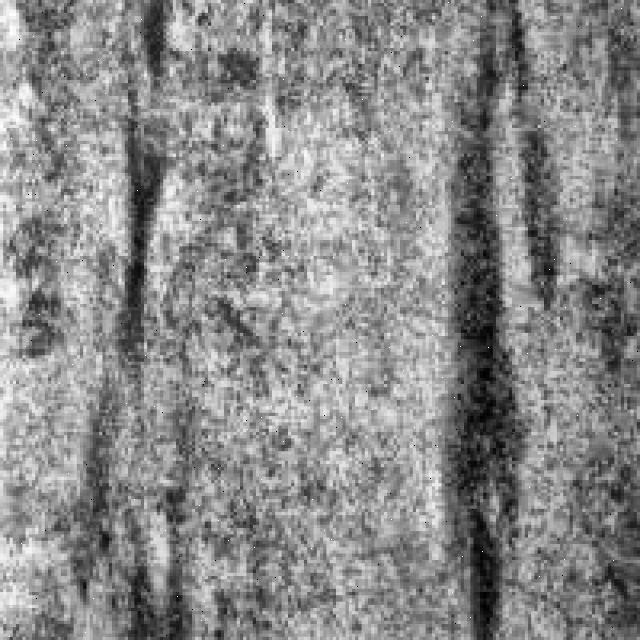Patches: (444, 9, 548, 598), (109, 140, 176, 362)
